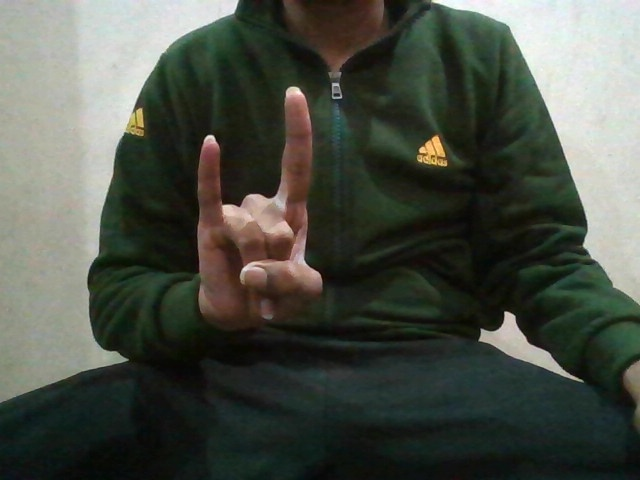U: (194, 130, 328, 331)
